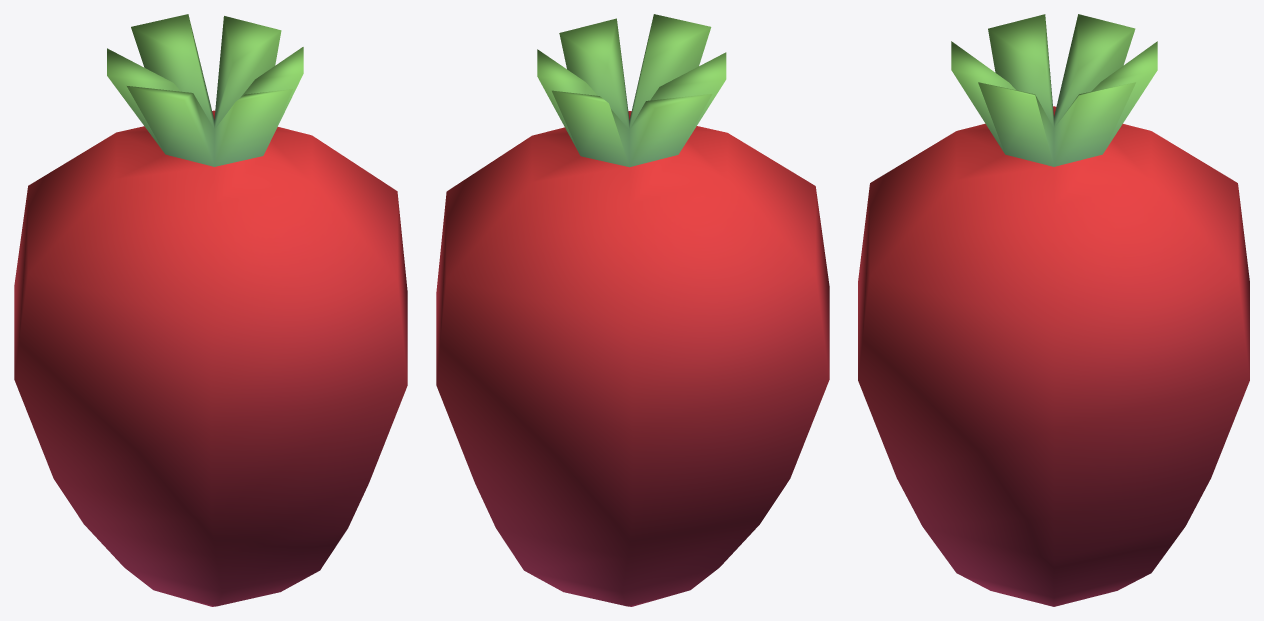
The model's file is Strawberry.fbx.
3 views of the same model, side by side, from view 1: azimuth 30°, elevation 25°; view 2: azimuth 150°, elevation 25°; view 3: azimuth 270°, elevation 25° (orthographic).
Parts seen in each view (by area): view 1: strawberry; view 2: strawberry; view 3: strawberry.
Boxes of the visible parts, <box> form: strawberry: <box>14,14,407,606</box>; strawberry: <box>436,14,829,606</box>; strawberry: <box>858,14,1249,606</box>.
Size of the model in its own units: 219 by 292 by 189.
